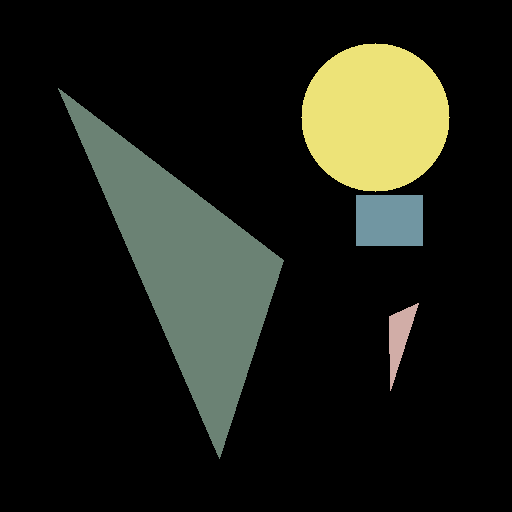circle: (301, 43, 449, 191)
rectangle: (356, 195, 422, 245)
triangle: (58, 88, 283, 458), (389, 303, 418, 390)
